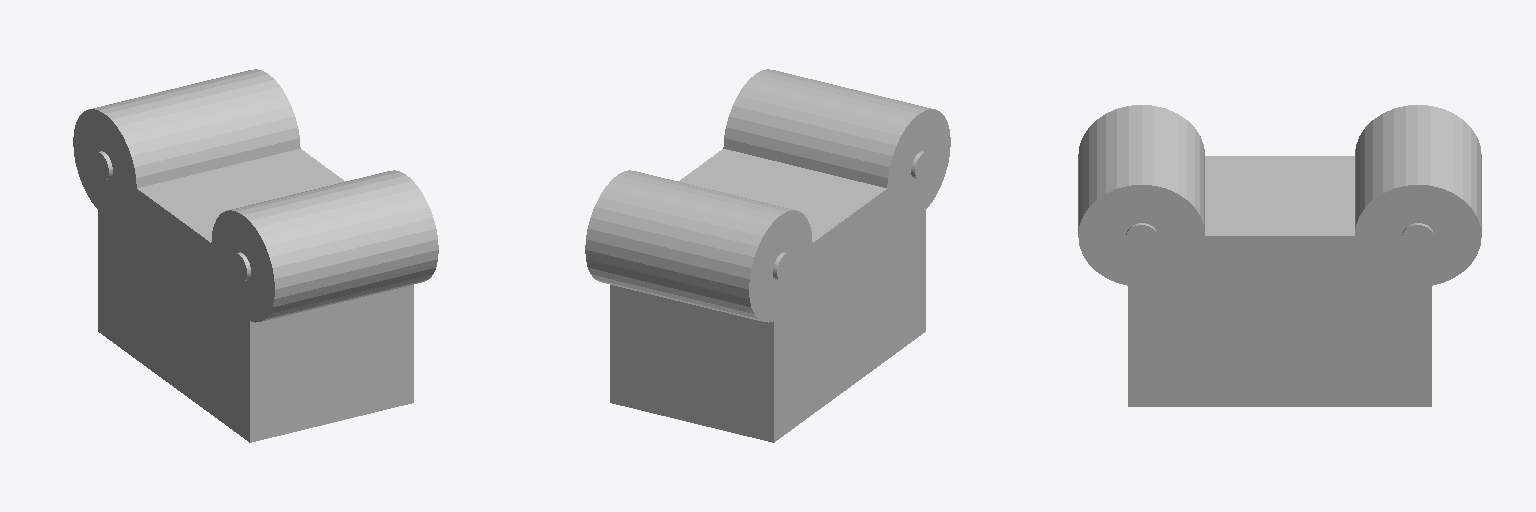
Rendered from body_palm.obj.
3 renders of one model, left to right at view 1: azimuth 30°, elevation 25°; view 2: azimuth 150°, elevation 25°; view 3: azimuth 270°, elevation 25°, orthographic.
Visible parts, largest first — view 1: body_palm_Cube.001, body_palm_lpinvrpin_Cylinder.004, rpin_Cylinder.001; view 2: body_palm_Cube.001, rpin_Cylinder.001, body_palm_lpinvrpin_Cylinder.004; view 3: body_palm_Cube.001, rpin_Cylinder.001, body_palm_lpinvrpin_Cylinder.004.
Boxes of the visible parts, x1=… form: body_palm_Cube.001: x1=98, y1=149, x2=413, y2=442; body_palm_lpinvrpin_Cylinder.004: x1=211, y1=170, x2=438, y2=322; rpin_Cylinder.001: x1=73, y1=69, x2=300, y2=220; body_palm_Cube.001: x1=610, y1=149, x2=925, y2=442; rpin_Cylinder.001: x1=585, y1=170, x2=812, y2=322; body_palm_lpinvrpin_Cylinder.004: x1=723, y1=69, x2=950, y2=220; body_palm_Cube.001: x1=1128, y1=156, x2=1431, y2=406; rpin_Cylinder.001: x1=1355, y1=105, x2=1481, y2=285; body_palm_lpinvrpin_Cylinder.004: x1=1078, y1=105, x2=1204, y2=285.
Size of the model in its own units: 0.0336 by 0.0416 by 0.0683.